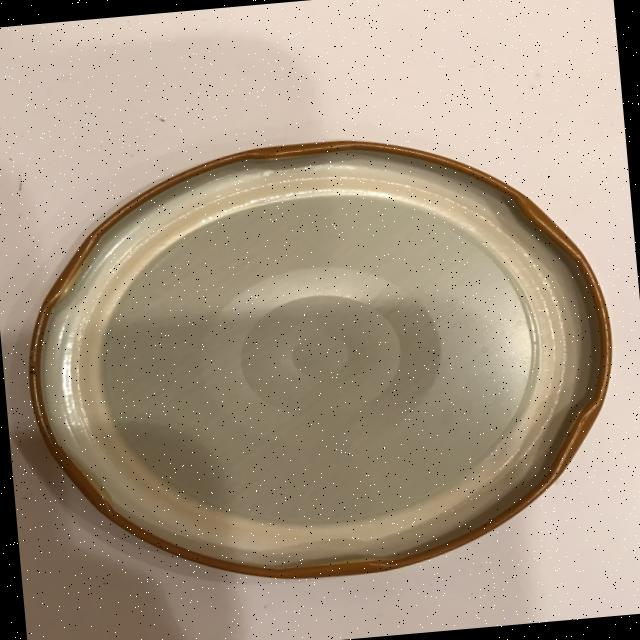metal: (9, 116, 631, 601)
